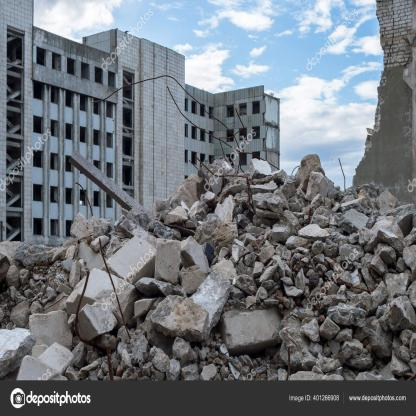rebar: (166, 84, 280, 174), (92, 72, 234, 138), (193, 153, 258, 218), (99, 237, 133, 341), (75, 268, 107, 353), (283, 327, 298, 377), (75, 177, 94, 215), (329, 277, 375, 292), (106, 343, 114, 381), (338, 158, 347, 190), (186, 156, 200, 172), (290, 164, 301, 178)
